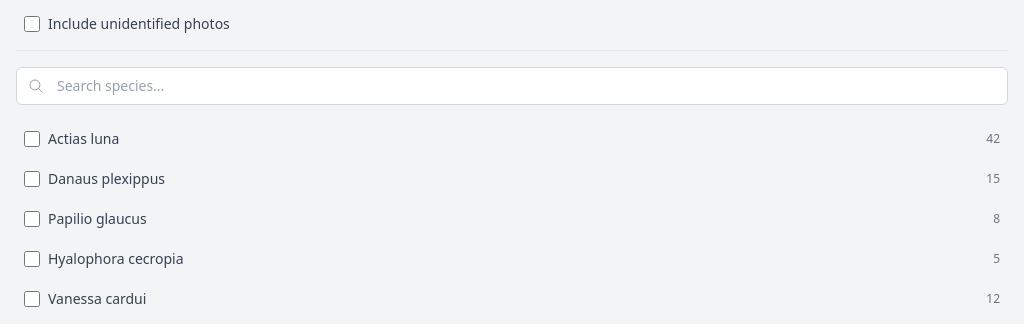
Test case: SpeciesFilter › Search Functionality › filters species based on search query
Check: the text "Actias luna" is shown, box [48,129,119,148]
Type "luna" into the field with placeholder "Search species..." at (512, 86), box [16,67,1008,105]
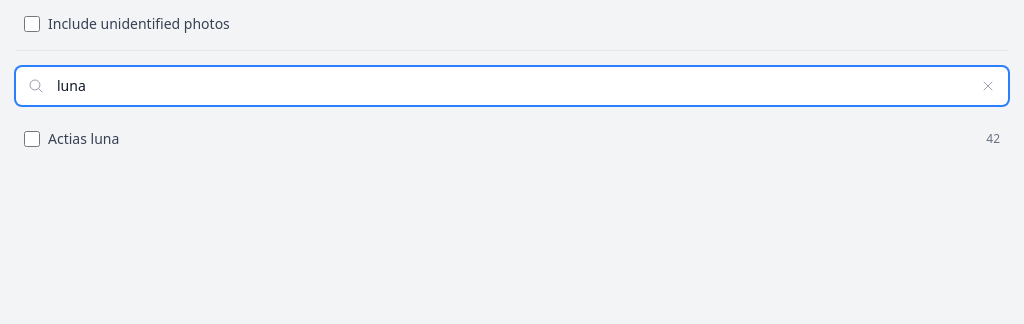
Check: the text "Actias luna" is shown, box [48,129,119,148]
Check: the text "Danaus plexippus" is gone
Check: the text "Papilio glaucus" is gone
